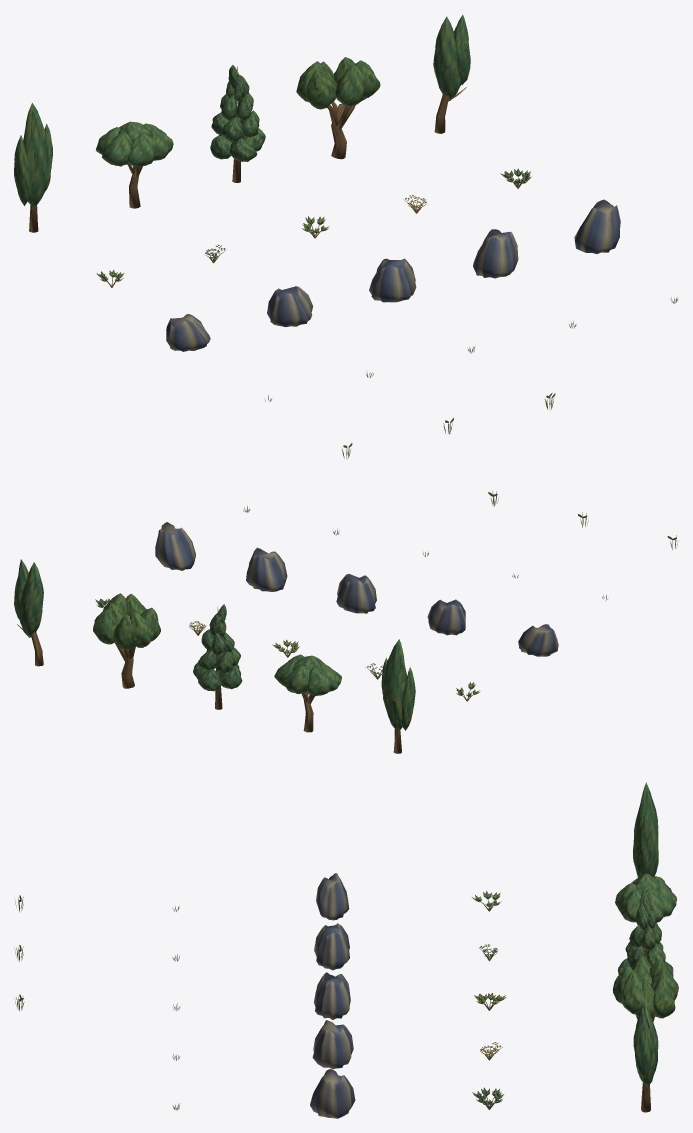
The model's file is environment.glb.
The picture shows the model from 3 angles, top to bottom: view 1: azimuth 30°, elevation 25°; view 2: azimuth 150°, elevation 25°; view 3: azimuth 270°, elevation 25°; orthographic projection. The views are drawn at different scales.
Visible parts, largest first — view 1: tree-3, tree-2, tree-1, tree-0, tree-4, rock-4, tree-2-lod, rock-3, rock-2, tree-3-lod, rock-1, tree-0-lod (+3 smaller); view 2: tree-3, tree-2, tree-1, tree-0, tree-4, rock-4, rock-3, tree-2-lod, tree-3-lod, rock-2, rock-1, tree-0-lod (+3 smaller); view 3: tree-3, tree-2, rock-4, tree-1, rock-3, tree-0, tree-4, rock-2, rock-1, tree-3-lod, rock-0, tree-2-lod (+3 smaller).
Part boxes in pixels (left/top/right/bottom): tree-3: left=296, top=57, right=380, bottom=158; tree-2: left=210, top=65, right=265, bottom=182; tree-1: left=96, top=122, right=173, bottom=208; tree-0: left=14, top=103, right=52, bottom=232; tree-4: left=433, top=15, right=470, bottom=133; rock-4: left=574, top=199, right=620, bottom=253; tree-2-lod: left=210, top=67, right=265, bottom=182; rock-3: left=473, top=229, right=518, bottom=278; rock-2: left=369, top=258, right=416, bottom=302; tree-3-lod: left=296, top=57, right=379, bottom=159; rock-1: left=267, top=286, right=312, bottom=327; tree-0-lod: left=14, top=104, right=52, bottom=232; tree-3: left=93, top=593, right=160, bottom=688; tree-2: left=193, top=604, right=242, bottom=709; tree-1: left=274, top=655, right=341, bottom=732; tree-0: left=381, top=639, right=415, bottom=753; tree-4: left=14, top=560, right=43, bottom=666; rock-4: left=155, top=522, right=195, bottom=570; rock-3: left=246, top=547, right=287, bottom=591; tree-2-lod: left=193, top=604, right=241, bottom=708; tree-3-lod: left=93, top=593, right=160, bottom=688; rock-2: left=336, top=574, right=376, bottom=613; rock-1: left=427, top=599, right=465, bottom=635; tree-0-lod: left=382, top=641, right=415, bottom=753; tree-3: left=613, top=955, right=678, bottom=1022; tree-2: left=618, top=890, right=673, bottom=978; rock-4: left=310, top=1069, right=355, bottom=1118; tree-1: left=615, top=873, right=676, bottom=922; rock-3: left=312, top=1020, right=353, bottom=1068; tree-0: left=633, top=782, right=658, bottom=877; tree-4: left=633, top=999, right=658, bottom=1112; rock-2: left=313, top=972, right=350, bottom=1019; rock-1: left=314, top=923, right=349, bottom=970; tree-3-lod: left=612, top=955, right=678, bottom=1020; rock-0: left=316, top=873, right=349, bottom=920; tree-2-lod: left=618, top=890, right=672, bottom=977.
Bounding box in the file's own units: 10.83 × 2.93 × 13.59.
